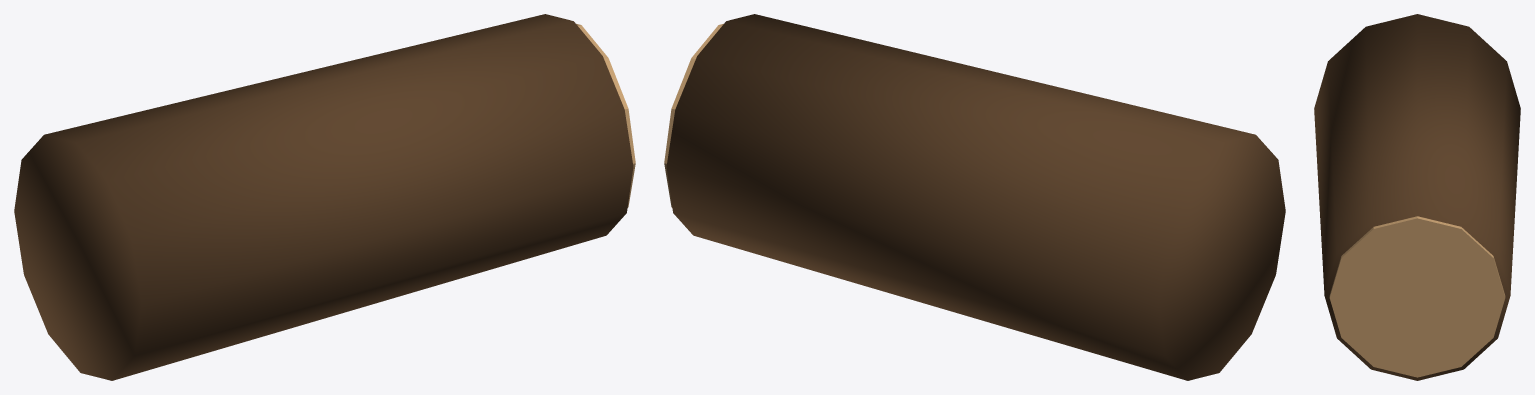
File: prop_log.glb
The picture shows the model from 3 angles, left to right: view 1: azimuth 30°, elevation 25°; view 2: azimuth 150°, elevation 25°; view 3: azimuth 270°, elevation 25°; orthographic projection. The views are drawn at different scales.
Parts seen in each view (by area): view 1: log, ring; view 2: log, ring; view 3: log, ring.
Part boxes in pixels (x1,y1,x2,y2): log: (14,14,633,380); ring: (576,23,635,207); log: (666,14,1285,380); ring: (664,23,723,207); log: (1314,14,1520,380); ring: (1329,216,1505,377).
Bounding box in the file's own units: 0.9144 × 0.3999 × 0.4.
